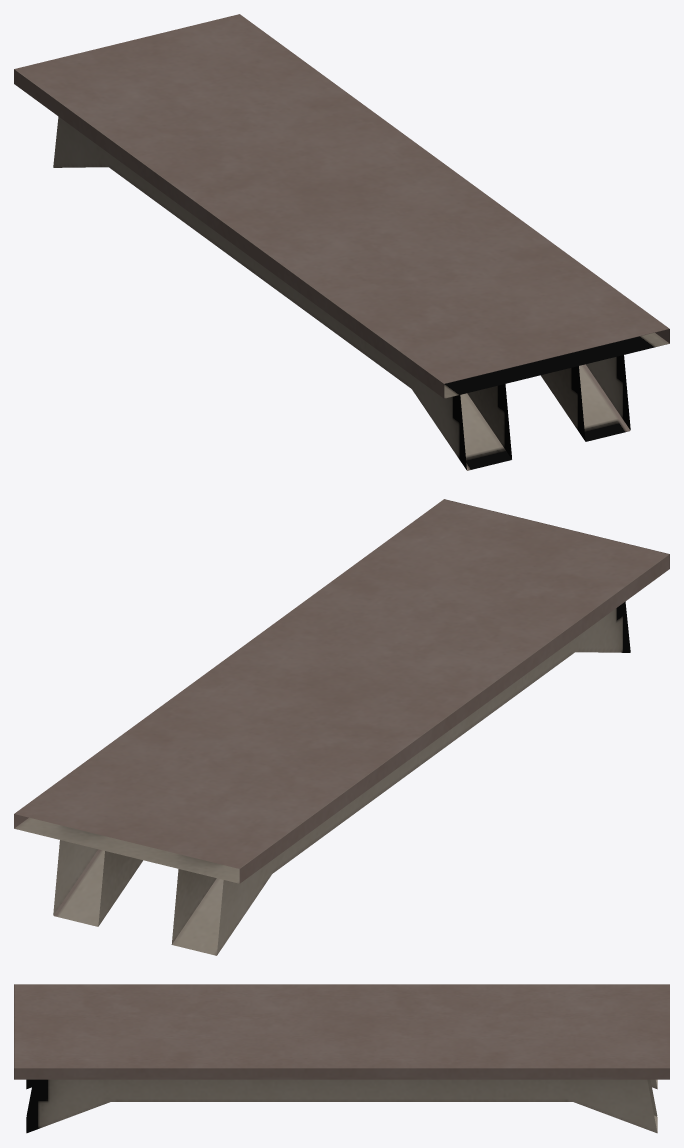
File: short_beam_fill.obj
The picture shows the model from 3 angles, top to bottom: view 1: azimuth 30°, elevation 25°; view 2: azimuth 150°, elevation 25°; view 3: azimuth 270°, elevation 25°; orthographic projection. The views are drawn at different scales.
Visible parts, largest first — view 1: short_beam_fill; view 2: short_beam_fill; view 3: short_beam_fill.
Part boxes in pixels (left/top/right/bottom): short_beam_fill: left=14, top=14, right=669, bottom=470; short_beam_fill: left=14, top=499, right=669, bottom=955; short_beam_fill: left=14, top=984, right=669, bottom=1133.
Size of the model in its own units: 2.5 by 1.06 by 8.25.
Materials: 2 (2 with a texture image).
